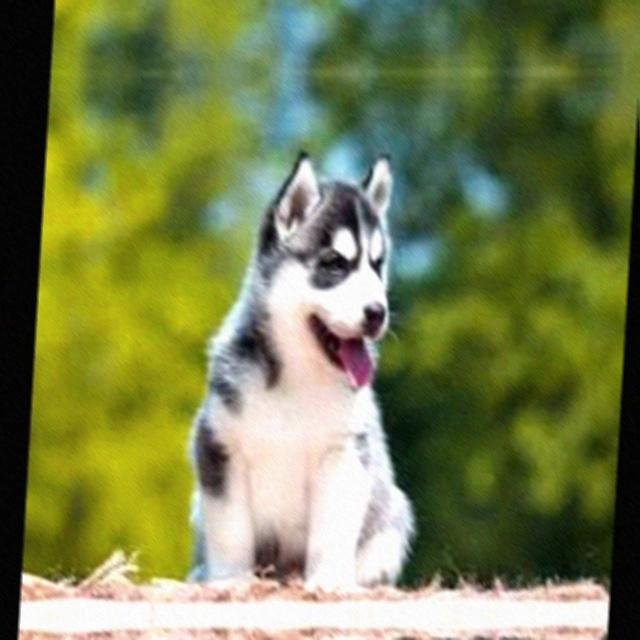dog: (168, 151, 462, 614), (163, 614, 435, 640)
